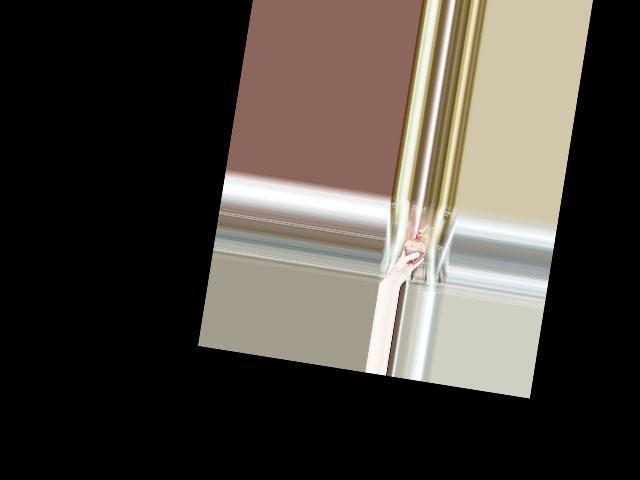beet: (402, 222, 430, 265)
